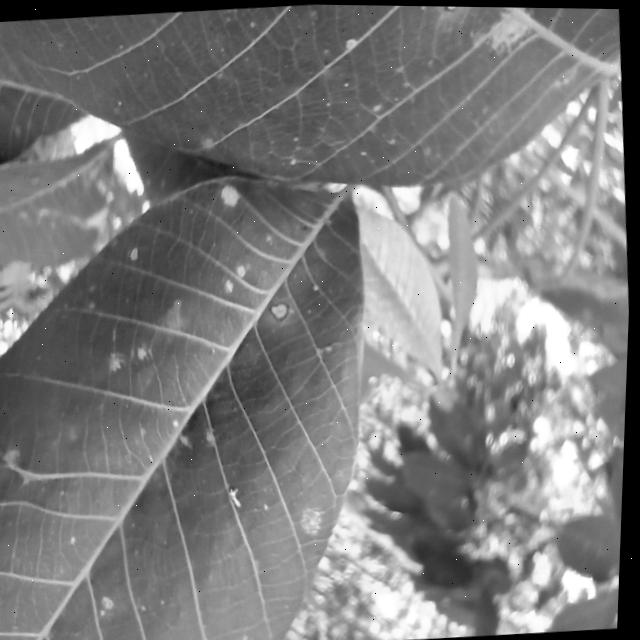Colletotrichum: (270, 300, 291, 321), (442, 5, 466, 10)
